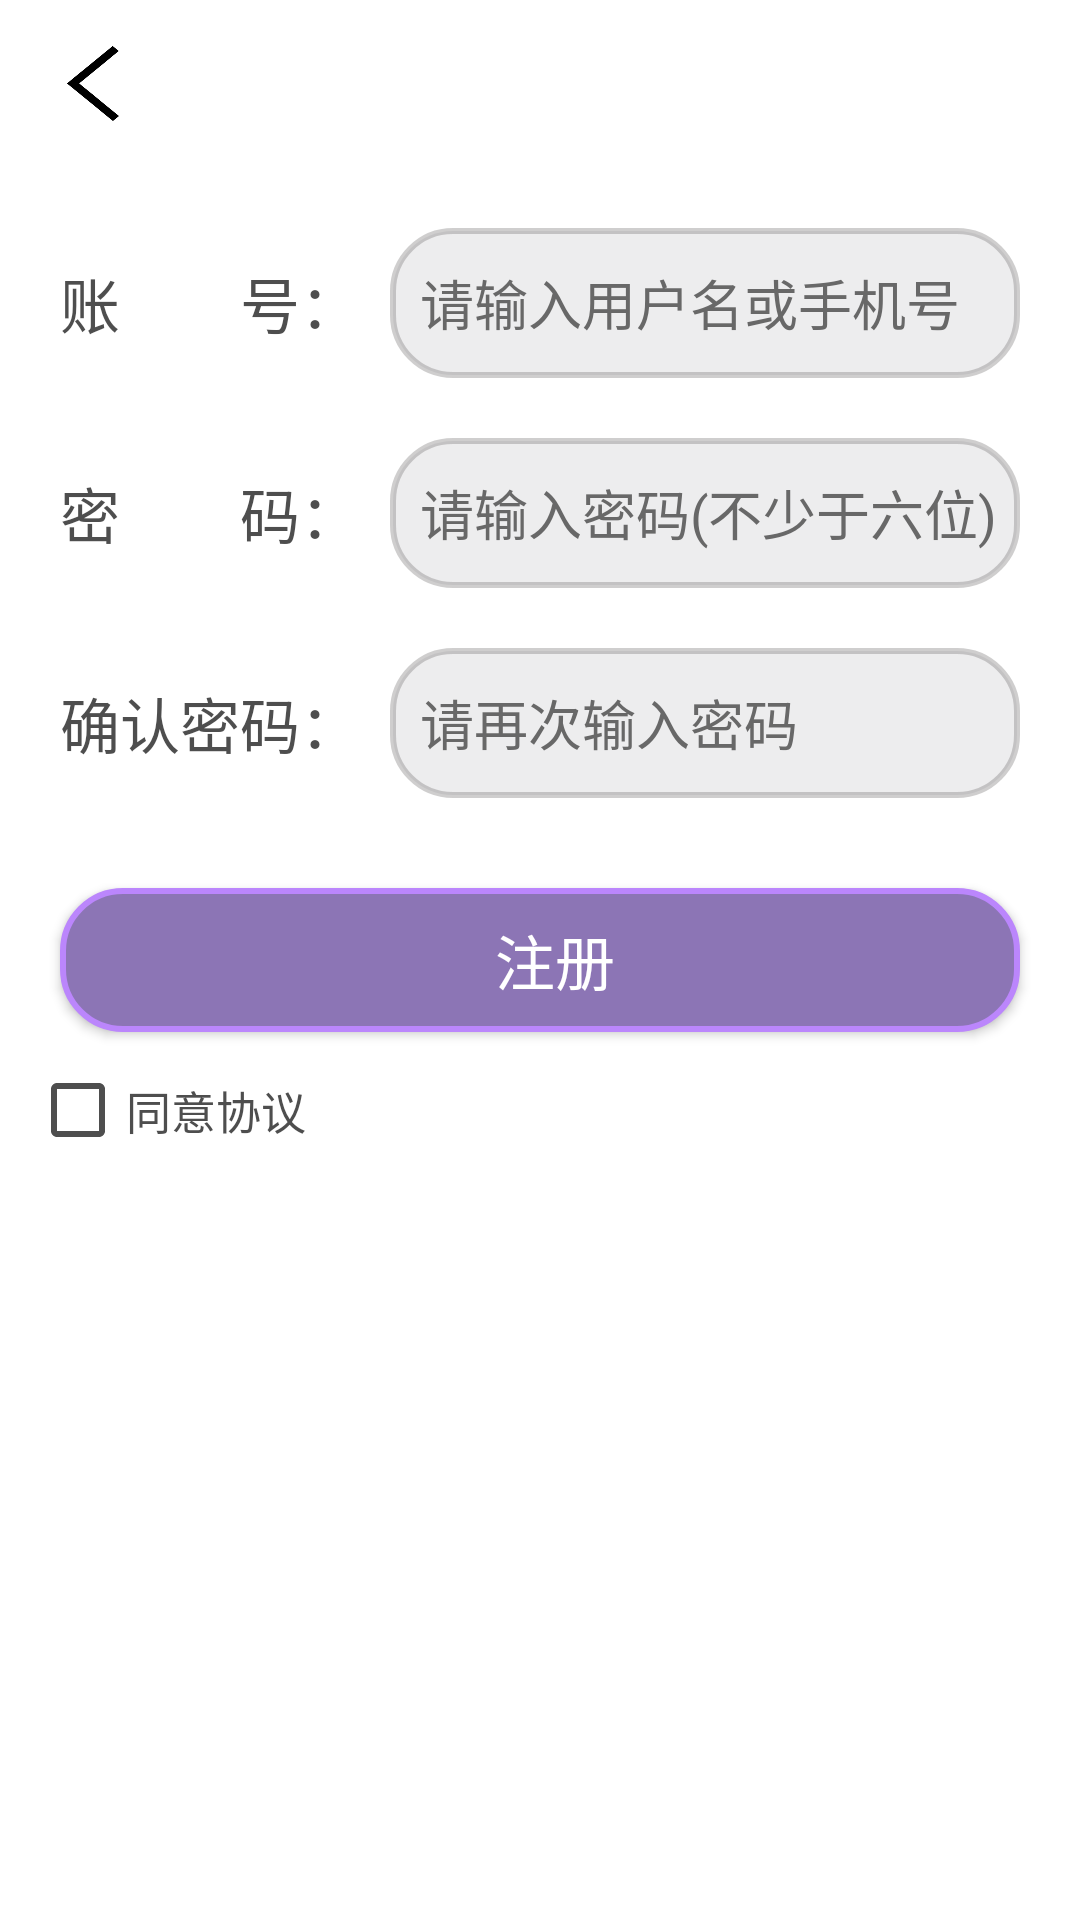

Icon click points for this 1080px×1920px phone screenshot, format point (x, y):
back: point (93, 83)
